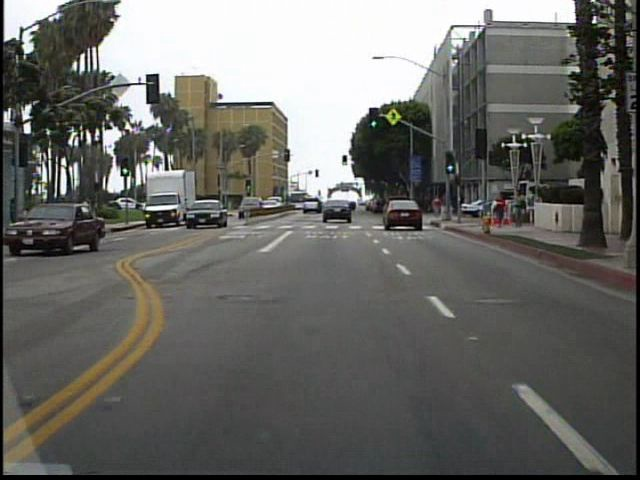person: (77, 194, 94, 238), (428, 194, 444, 219)
